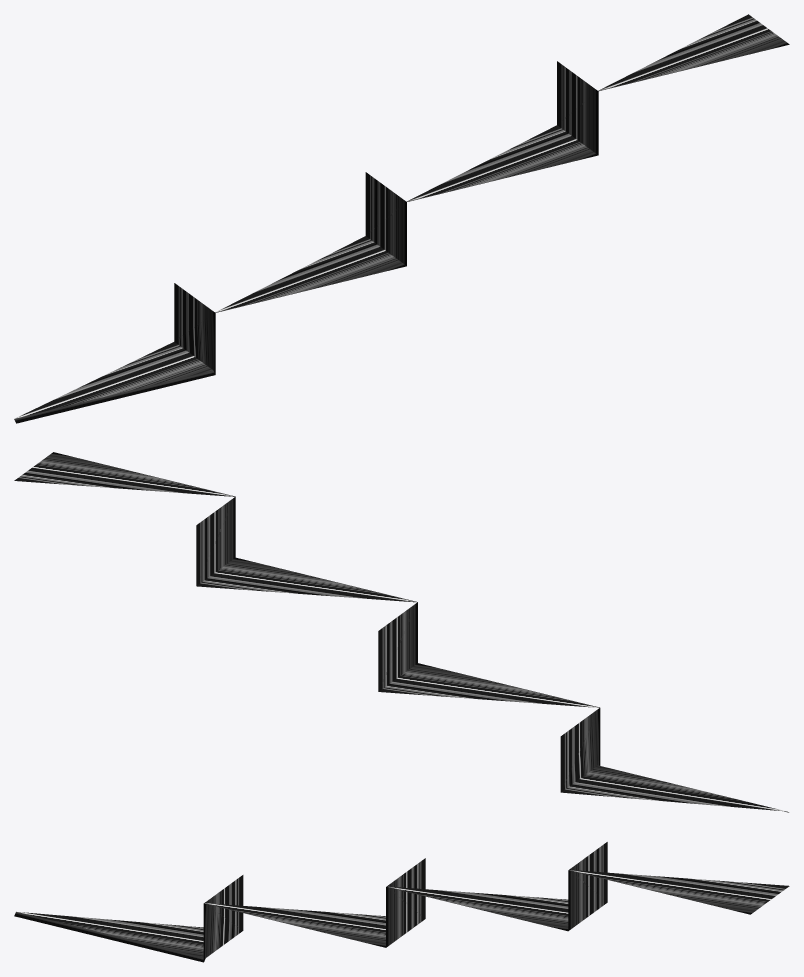
3 views of the same model, one above another, from view 1: azimuth 30°, elevation 25°; view 2: azimuth 150°, elevation 25°; view 3: azimuth 330°, elevation 25° (orthographic). The views are drawn at different scales.
Parts seen in each view (by area): view 1: Joint_0_Object_0; view 2: Joint_0_Object_0; view 3: Joint_0_Object_0.
Boxes of the visible parts, <box> form: Joint_0_Object_0: <box>14,14,789,423</box>; Joint_0_Object_0: <box>14,452,788,812</box>; Joint_0_Object_0: <box>14,842,789,962</box>.
Bounding box in the file's own units: 3902 × 917 × 362.
